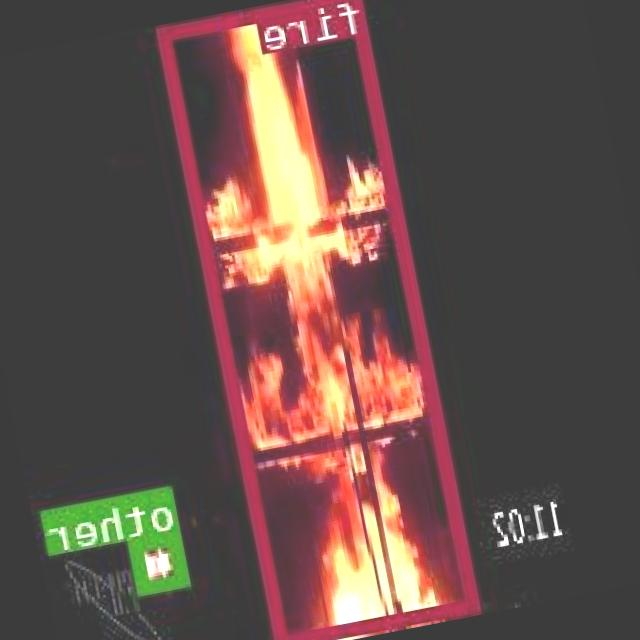fire: (158, 0, 483, 640)
